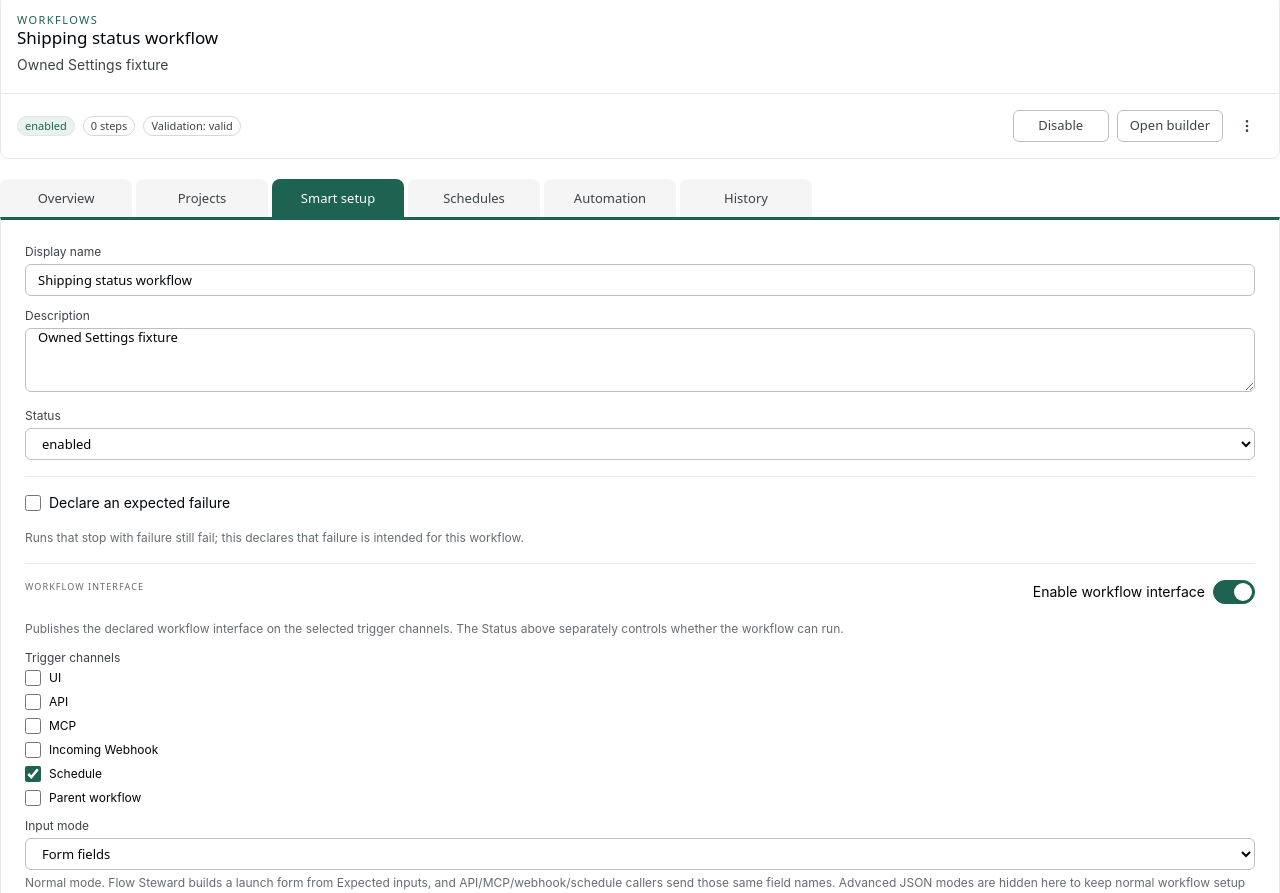
shows Workflow revision conflict without clearing the draft or claiming success
Expected: the field labelled "Display name" is shown, [25, 264, 1255, 296]
Type " local draft" into the text box labelled "Description".
click(640, 360); type(" local draft")  # box [25, 328, 1255, 392]
(page scrolled)
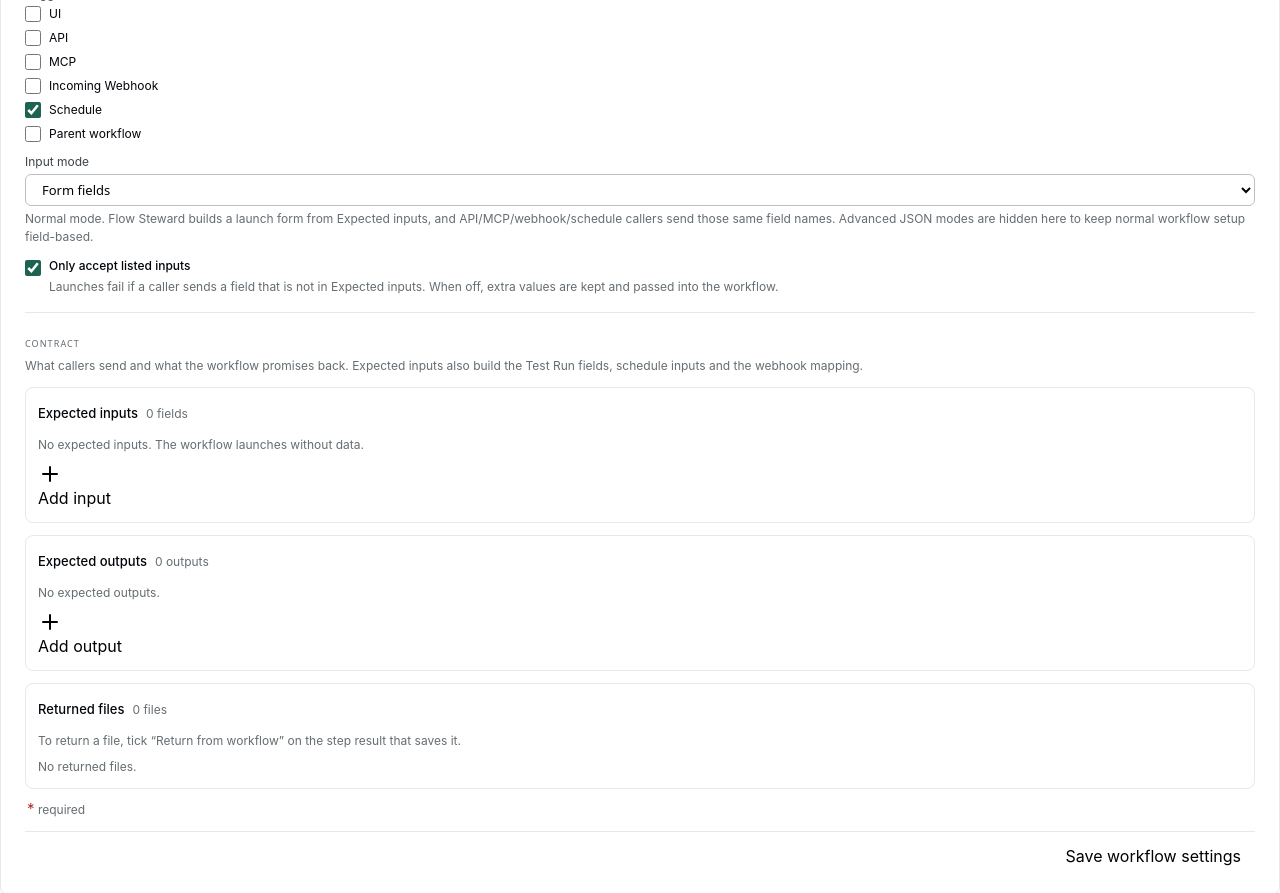
Click the button "Save workflow settings".
click(1153, 856)  # box [1052, 844, 1255, 868]
(page scrolled)
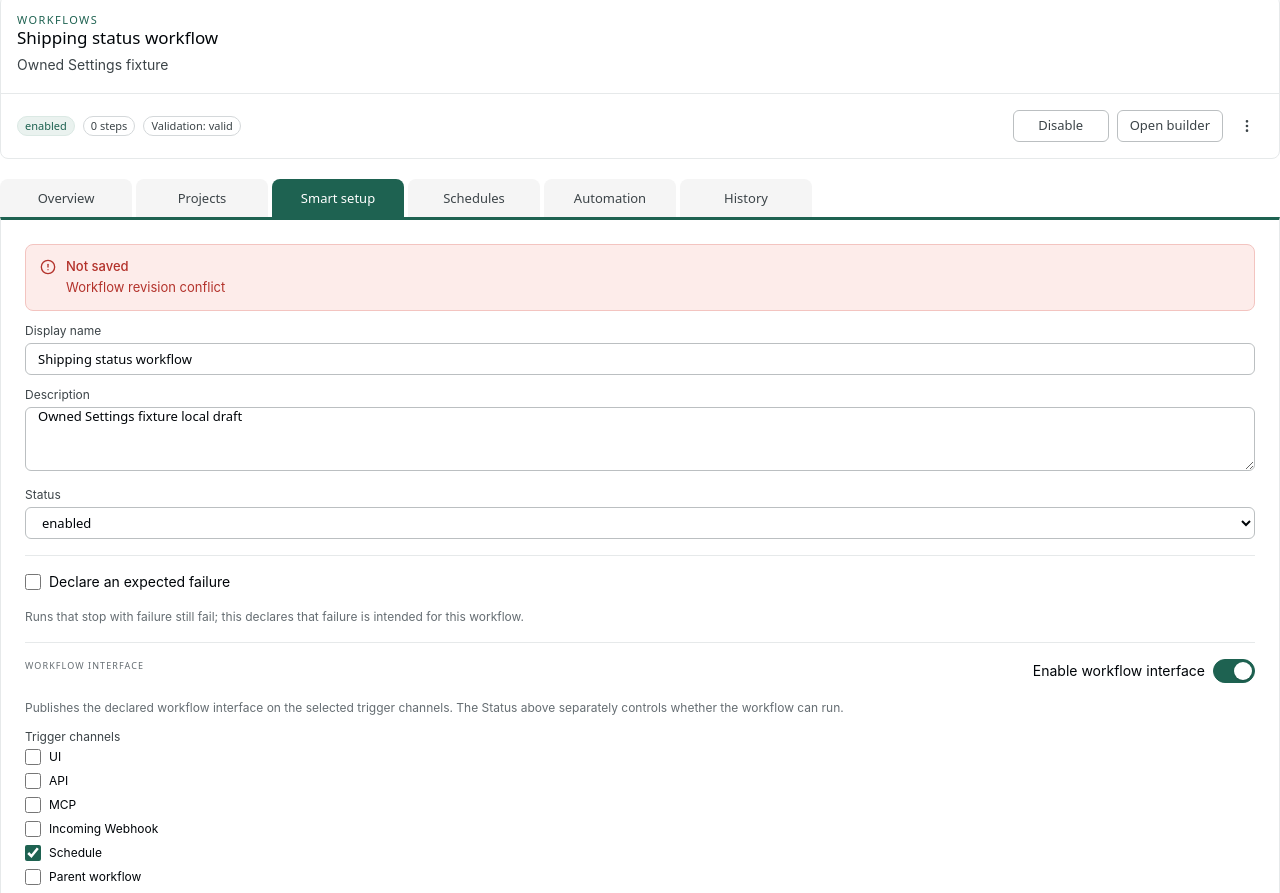
Now the text box labelled "Description" holds "Owned Settings fixture local draft", box [25, 407, 1255, 471]
Now the text "Workflow revision conflict" is shown, box [66, 279, 225, 295]
